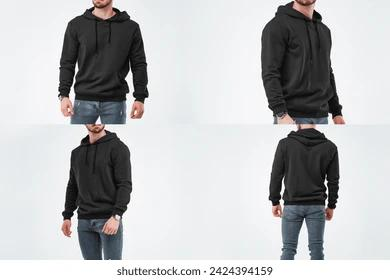sweater: (259, 1, 344, 118), (57, 6, 149, 104), (61, 129, 133, 220), (267, 129, 340, 209)
trousers: (281, 201, 326, 261), (77, 216, 122, 262), (69, 98, 129, 125)
